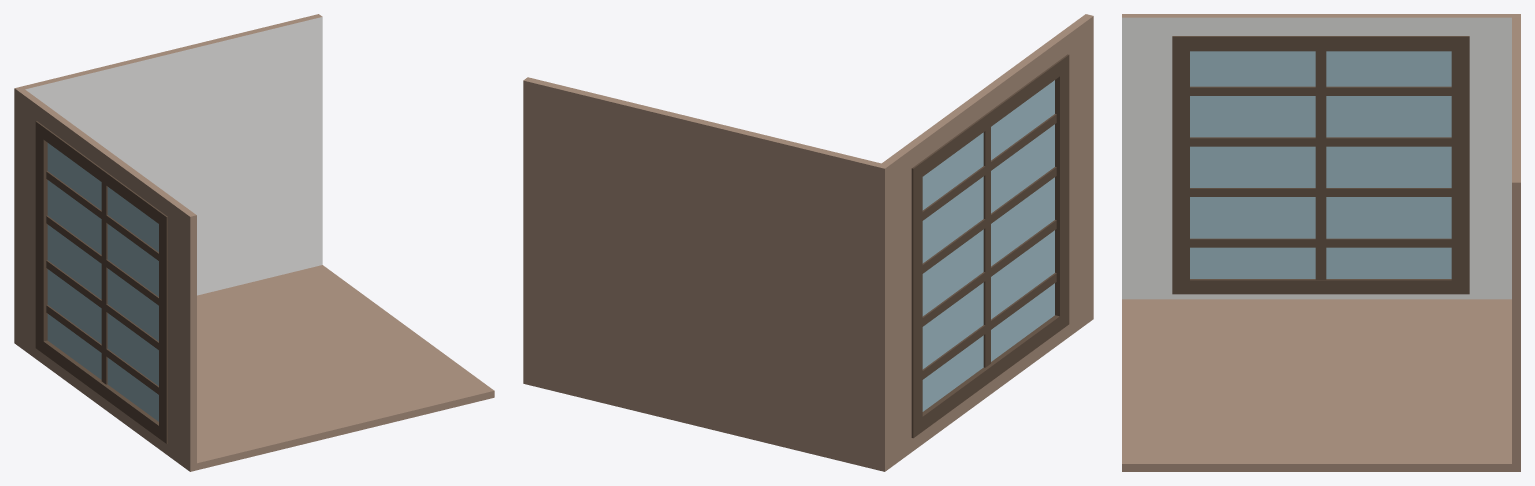
3 renders of one model, left to right at view 1: azimuth 30°, elevation 25°; view 2: azimuth 150°, elevation 25°; view 3: azimuth 270°, elevation 25°, orthographic. The views are drawn at different scales.
Visible parts, largest first — view 1: Base_2; view 2: Base_2; view 3: Base_2.
Part boxes in pixels (<box>): Base_2: <box>14,14,494,471</box>; Base_2: <box>523,14,1093,471</box>; Base_2: <box>1122,14,1520,471</box>.
Size of the model in its own units: 502 by 500 by 401.
